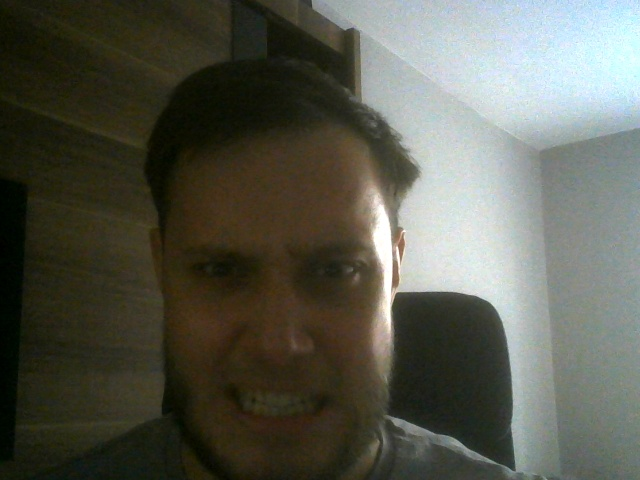angry: (147, 69, 406, 478)
